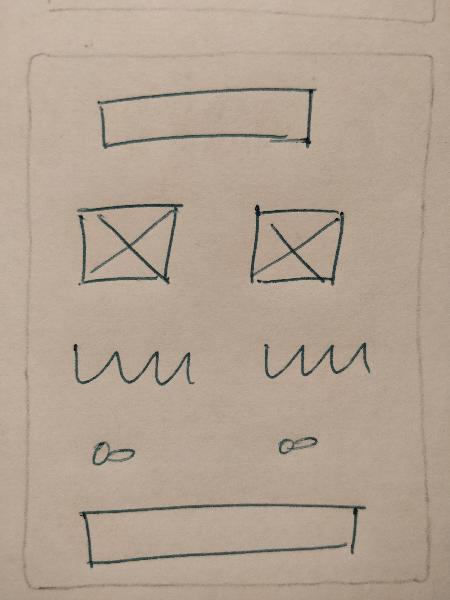image: (64, 191, 191, 297), (239, 193, 350, 295)
switch: (76, 430, 147, 477), (264, 418, 331, 462)
text: (60, 335, 208, 401), (254, 332, 380, 391)
text_input: (63, 493, 368, 571), (86, 82, 324, 156)
